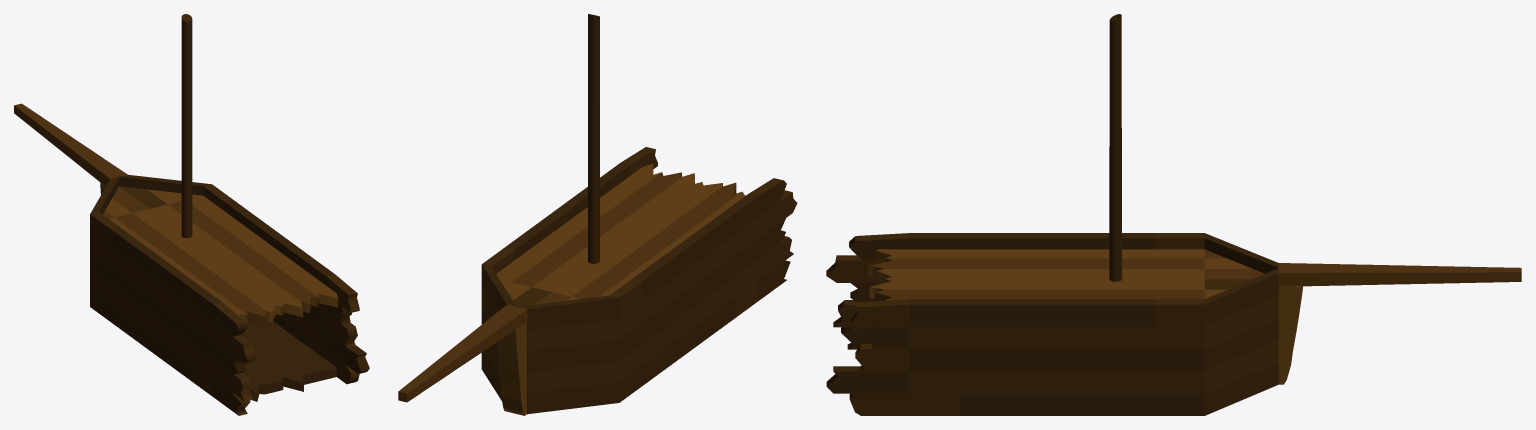
The model's file is maya2sketchfab.fbx.
3 views of the same model, side by side, from view 1: azimuth 30°, elevation 25°; view 2: azimuth 150°, elevation 25°; view 3: azimuth 270°, elevation 25° (orthographic). The views are drawn at different scales.
Parts seen in each view (by area): view 1: pCube114; view 2: pCube114; view 3: pCube114.
Part boxes in pixels (box(x1,y1,x2,y2)): pCube114: box(14, 14, 369, 415); pCube114: box(398, 14, 797, 415); pCube114: box(826, 14, 1521, 415).
Bounding box in the file's own units: 13.75 × 32.68 × 56.52.
